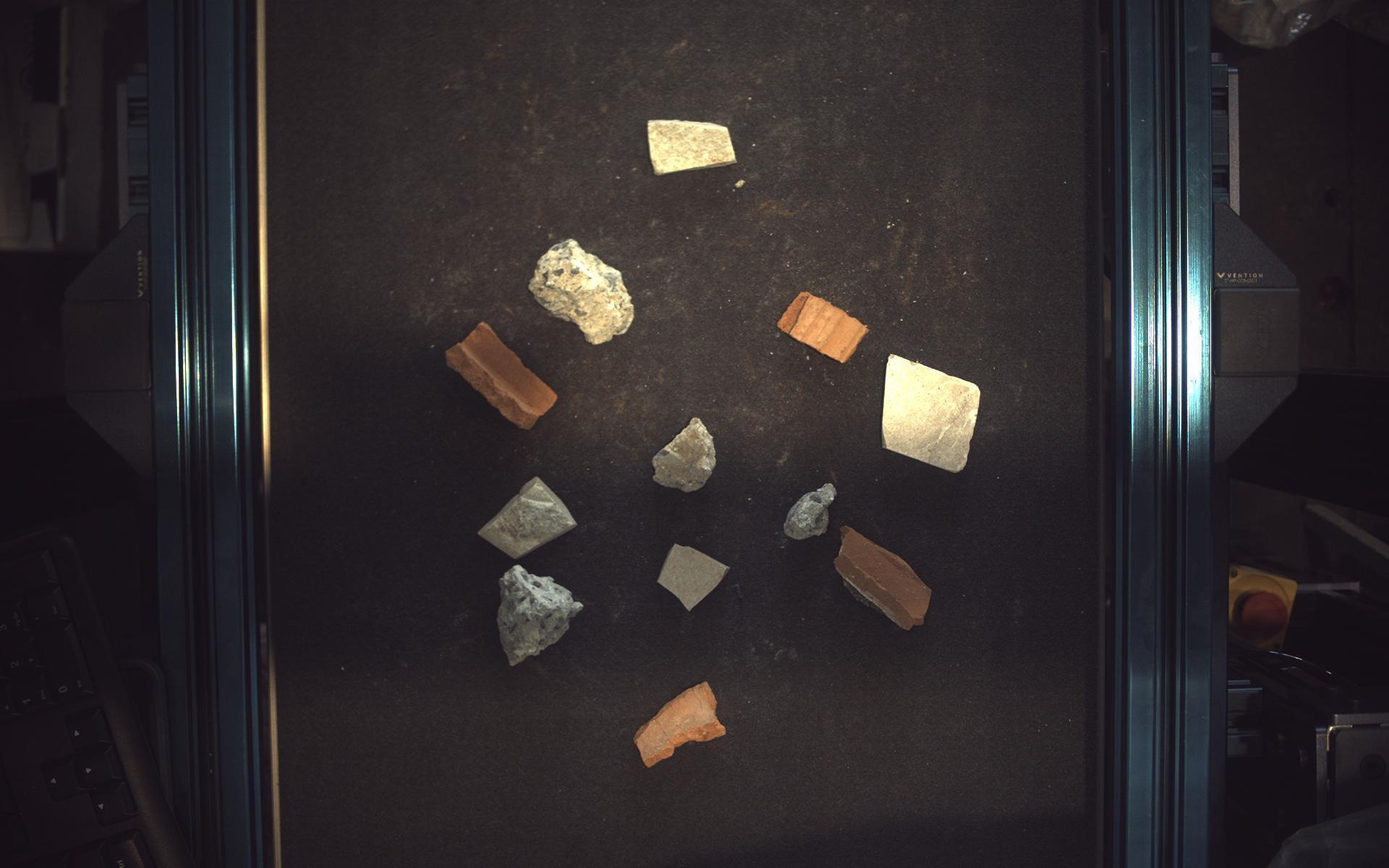brick: (446, 322, 557, 429), (836, 527, 933, 631), (635, 683, 726, 769), (779, 292, 869, 362)
concrete: (530, 239, 635, 344), (498, 565, 584, 667), (653, 417, 717, 493), (786, 484, 838, 540)
tile: (885, 354, 982, 472), (478, 477, 577, 559), (650, 119, 737, 174), (659, 545, 730, 610)
